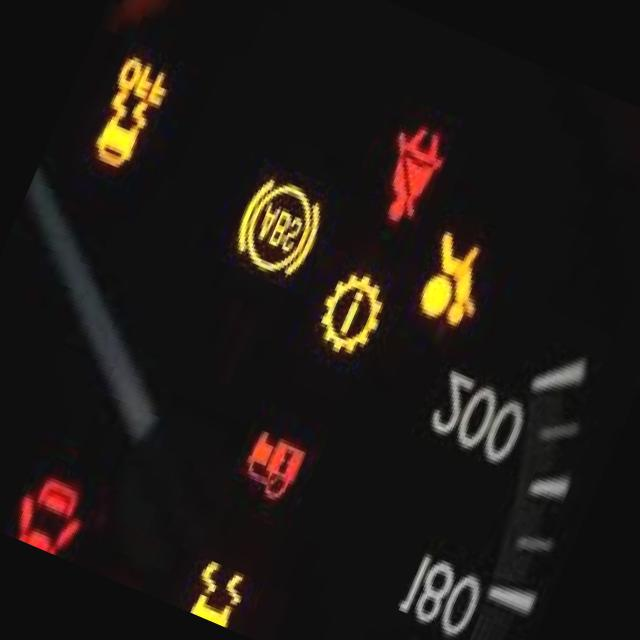kontrolka: (67, 28, 204, 203), (214, 162, 342, 296), (295, 255, 404, 380), (402, 219, 504, 344)
